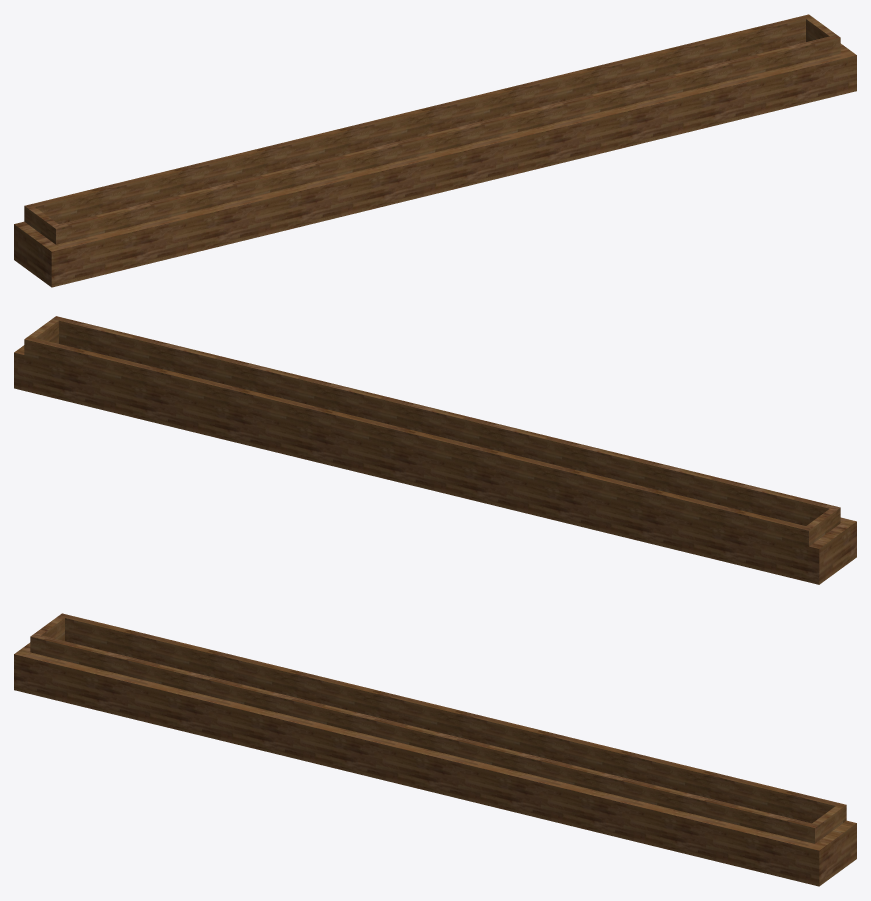
File: ARC0810031.fbx
The picture shows the model from 3 angles, top to bottom: view 1: azimuth 30°, elevation 25°; view 2: azimuth 150°, elevation 25°; view 3: azimuth 330°, elevation 25°; orthographic projection.
Parts seen in each view (by area): view 1: smARC0810031; view 2: smARC0810031; view 3: smARC0810031.
Part boxes in pixels (x1,y1,x2,y2): smARC0810031: (14,14,856,287); smARC0810031: (14,316,856,584); smARC0810031: (14,613,856,886).
Size of the model in its own units: 812 by 49.74 by 65.9.
1 material, 1 textured.
